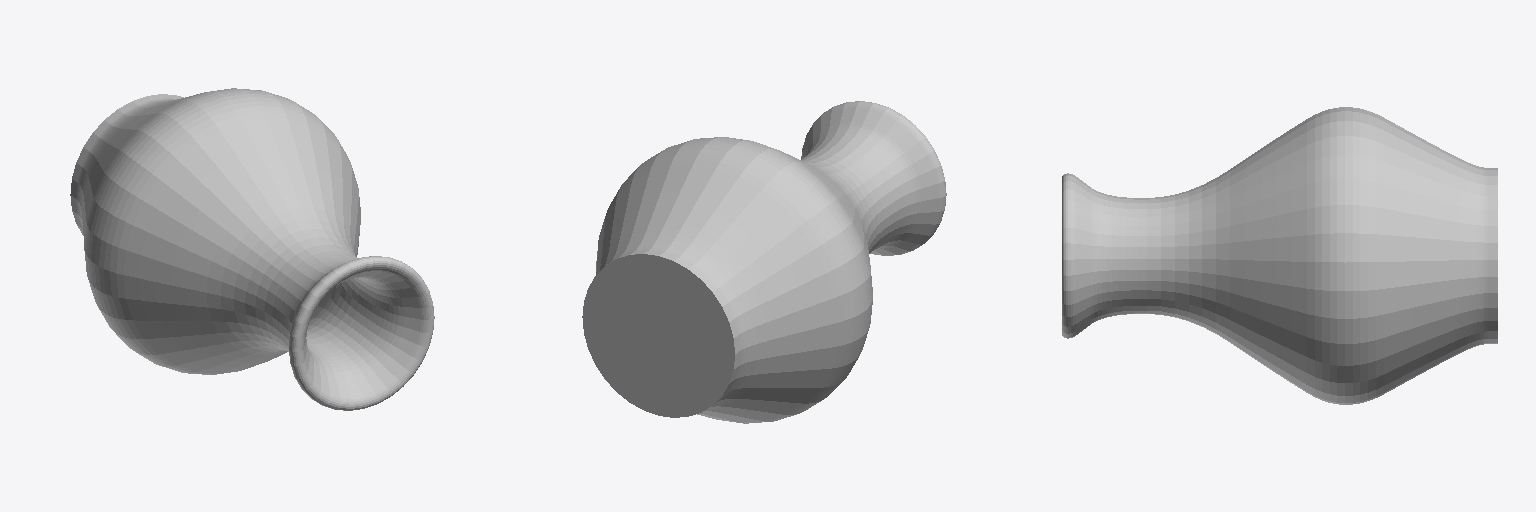
3 views of the same model, side by side, from view 1: azimuth 30°, elevation 25°; view 2: azimuth 150°, elevation 25°; view 3: azimuth 270°, elevation 25° (orthographic).
Parts seen in each view (by area): view 1: one; view 2: one, two; view 3: one.
Boxes of the visible parts, box(x1,y1,x2,y2) form: one: box(70, 88, 434, 410); one: box(596, 101, 946, 423); two: box(582, 254, 734, 417); one: box(1062, 107, 1497, 404).
Size of the model in its own units: 2.77 by 2.77 by 4.06.